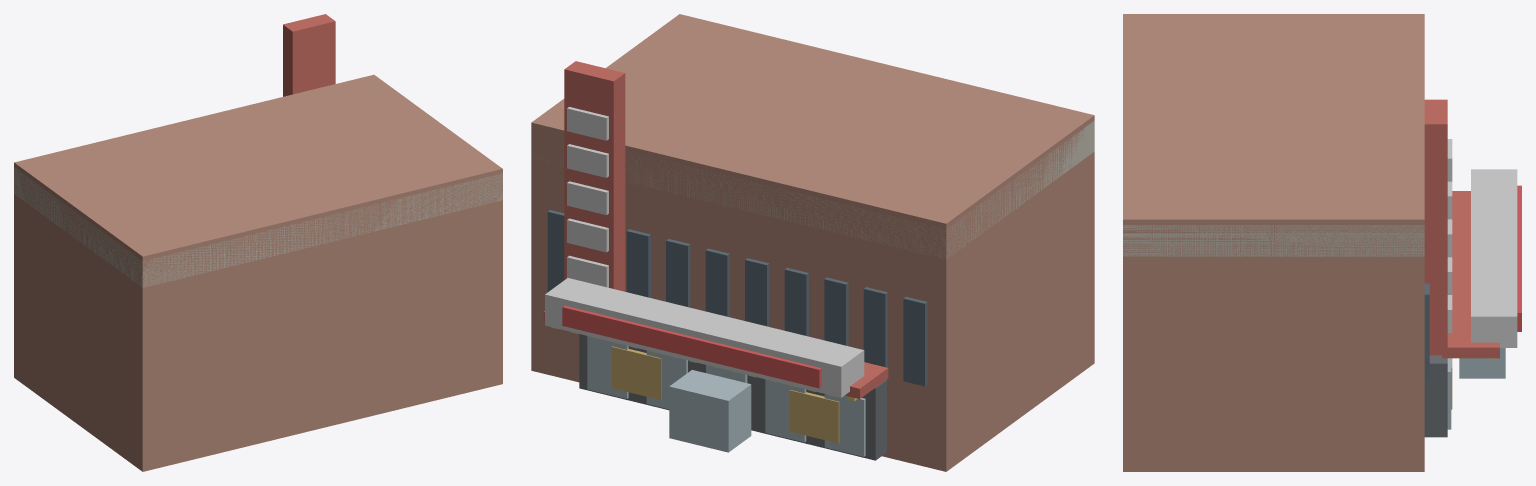
Rendered from apollo.glb.
The picture shows the model from 3 angles, left to right: view 1: azimuth 30°, elevation 25°; view 2: azimuth 150°, elevation 25°; view 3: azimuth 270°, elevation 25°; orthographic projection. The views are drawn at different scales.
Visible parts, largest first — view 1: Mesh; view 2: Mesh; view 3: Mesh.
Boxes of the visible parts, <box> form: Mesh: <box>14,14,502,471</box>; Mesh: <box>531,14,1094,471</box>; Mesh: <box>1123,14,1521,471</box>.
Size of the model in its own units: 42 by 31 by 34.4.
